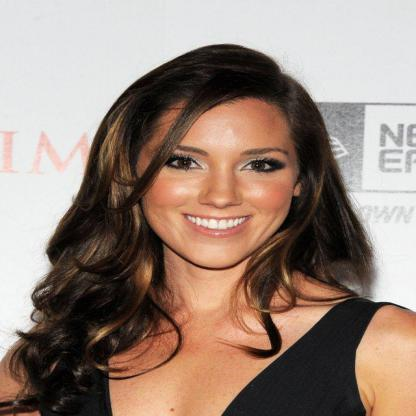long-hair: (26, 269, 359, 312)
